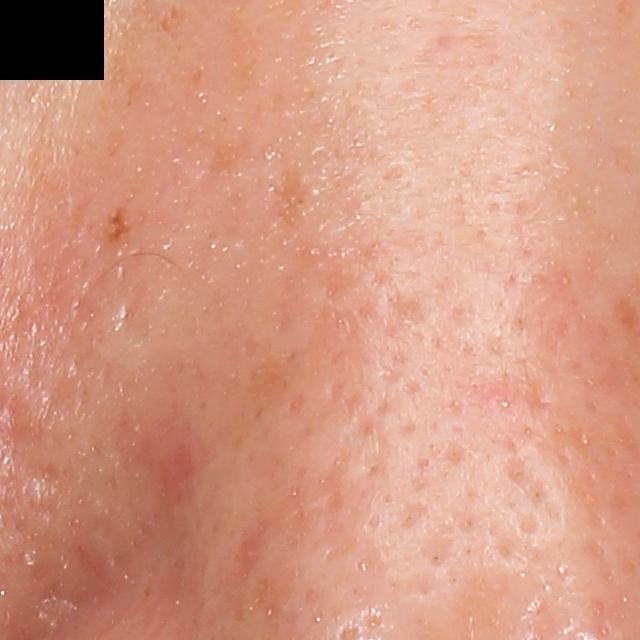melasma: (104, 45, 146, 112), (271, 162, 310, 234), (206, 139, 260, 182), (156, 2, 190, 40)
